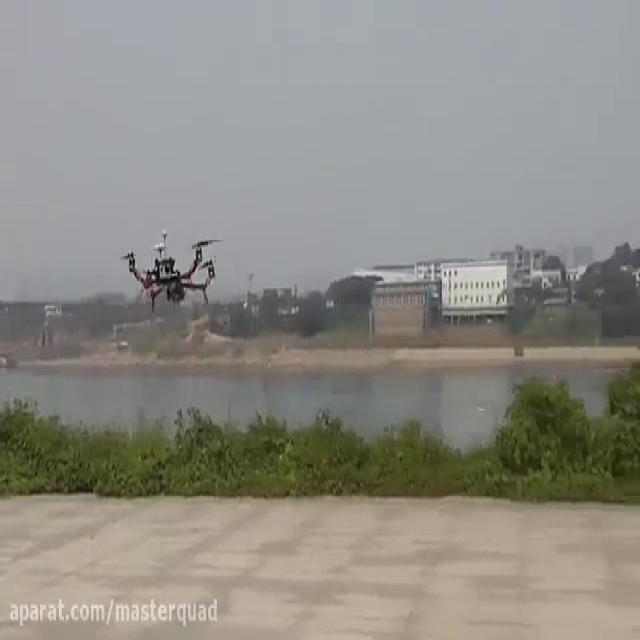drone: (114, 224, 229, 315)
